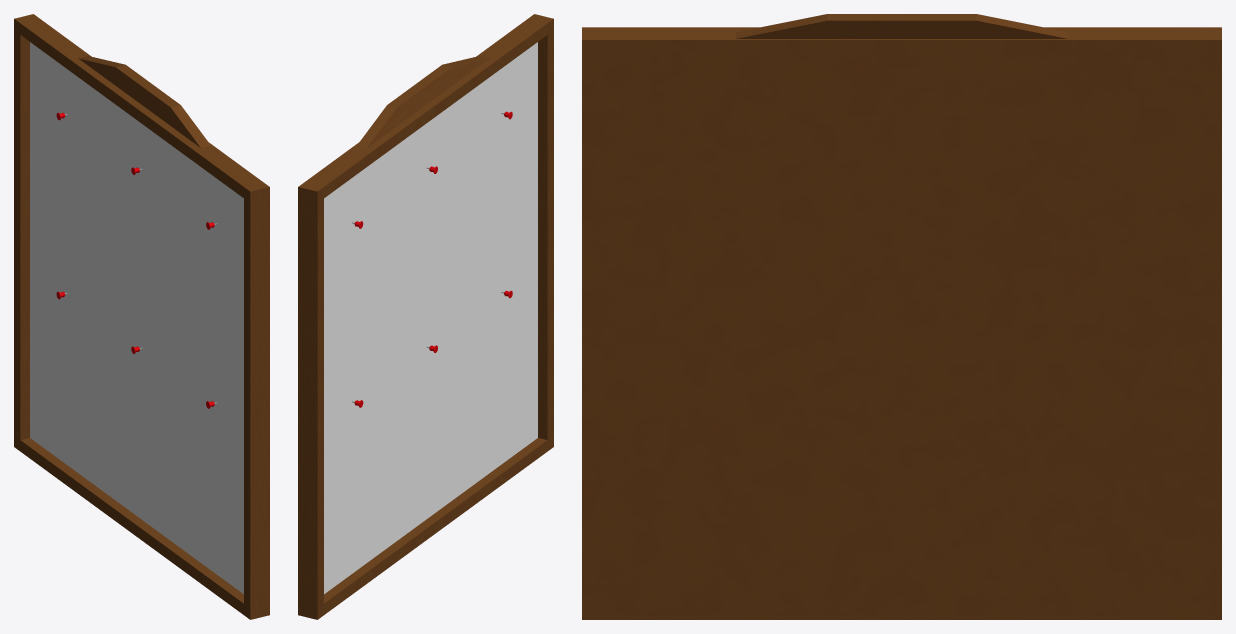
The model's file is corkboard.glb.
The picture shows the model from 3 angles, left to right: view 1: azimuth 30°, elevation 25°; view 2: azimuth 150°, elevation 25°; view 3: azimuth 270°, elevation 25°; orthographic projection. The views are drawn at different scales.
Parts seen in each view (by area): view 1: corkboard; view 2: corkboard; view 3: corkboard.
Part boxes in pixels (<box>): corkboard: <box>14,14,269,619</box>; corkboard: <box>298,14,553,619</box>; corkboard: <box>582,14,1221,619</box>.
Size of the model in its own units: 0.103 by 2.07 by 2.
4 materials, 1 textured.
